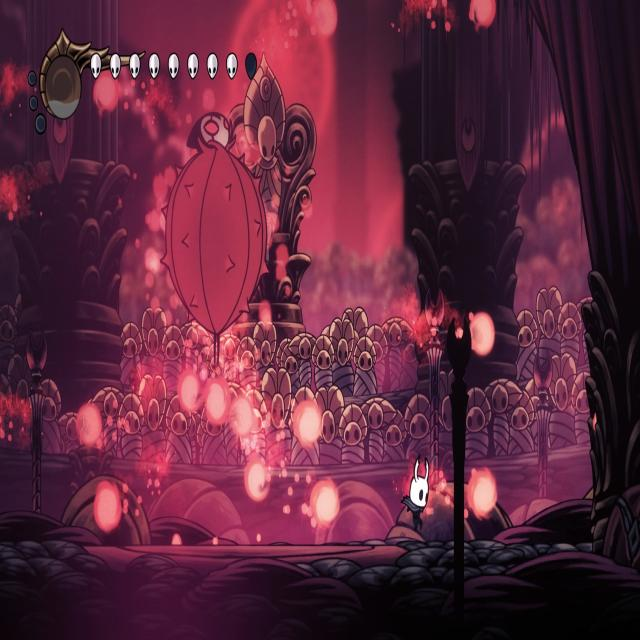Player: (401, 451, 434, 538)
Pufferfish: (158, 106, 272, 380)
Tiny Fireballs: (468, 469, 498, 519), (94, 481, 122, 532), (295, 399, 323, 446), (311, 480, 339, 526), (78, 403, 104, 450), (205, 379, 230, 426), (245, 459, 270, 502), (471, 312, 495, 355), (312, 1, 338, 40), (177, 371, 200, 415), (232, 398, 255, 437), (470, 0, 497, 30)
